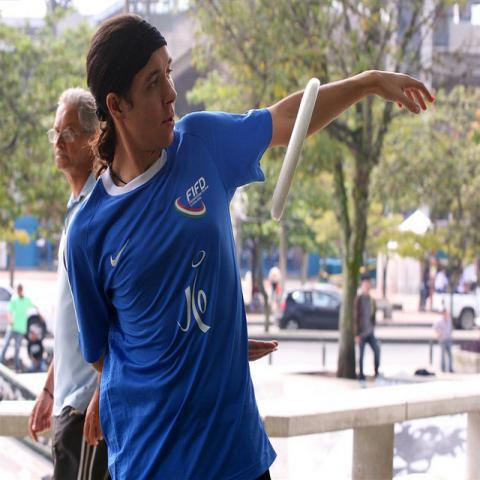car: (275, 281, 346, 331), (2, 287, 49, 340)
truck: (432, 289, 479, 331)
